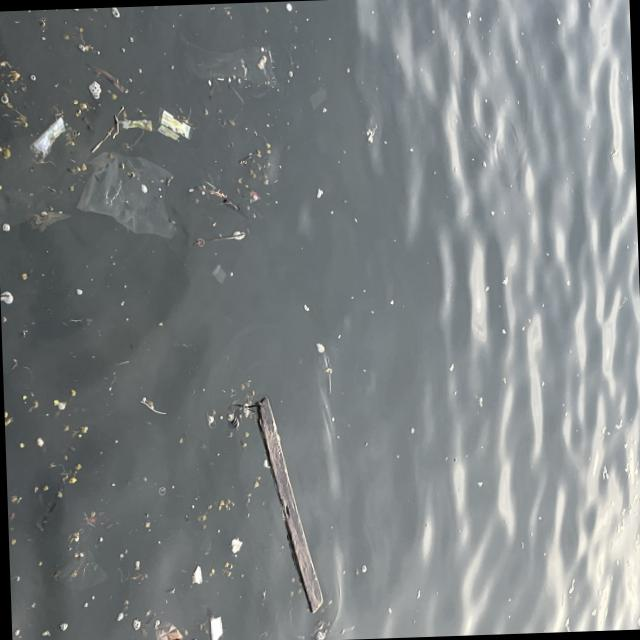foam: (208, 617, 223, 640), (191, 566, 202, 585), (230, 539, 243, 554)
